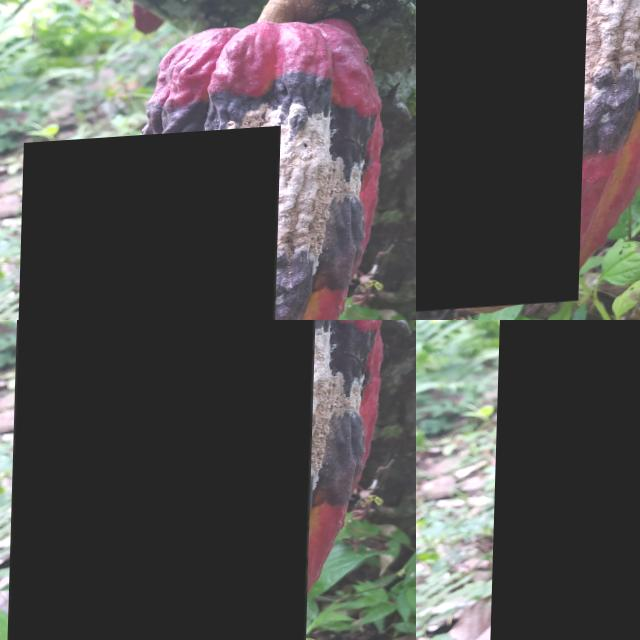Fitoftora: (416, 0, 590, 318)
Monilia: (9, 320, 321, 640), (490, 320, 640, 640)
Sana: (16, 131, 282, 320)
